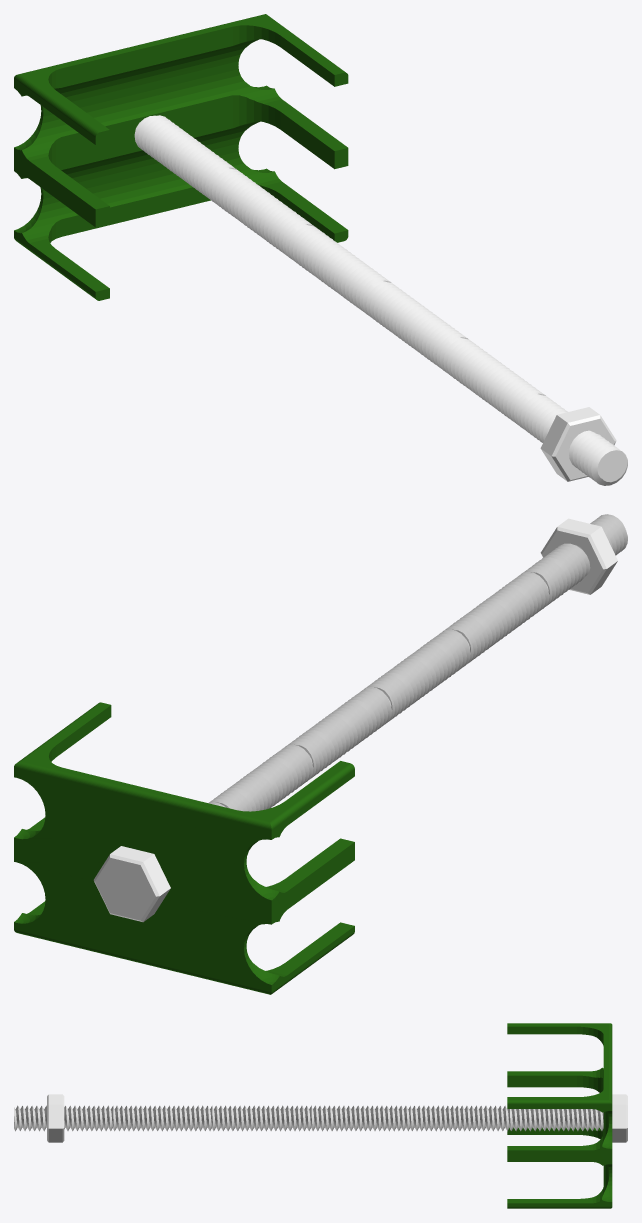
The model's file is fence_clamp.glb.
The picture shows the model from 3 angles, top to bottom: view 1: azimuth 30°, elevation 25°; view 2: azimuth 150°, elevation 25°; view 3: azimuth 270°, elevation 25°; orthographic projection. The views are drawn at different scales.
Parts seen in each view (by area): view 1: Cube.004; view 2: Cube.004; view 3: Cube.004.
Part boxes in pixels (x1,y1,x2,y2): Cube.004: (14,14,627,485); Cube.004: (14,514,627,994); Cube.004: (14,1023,627,1208).
Bounding box in the file's own units: 0.0384 × 0.0245 × 0.1258.
Materials: 2 (1 with a texture image).
